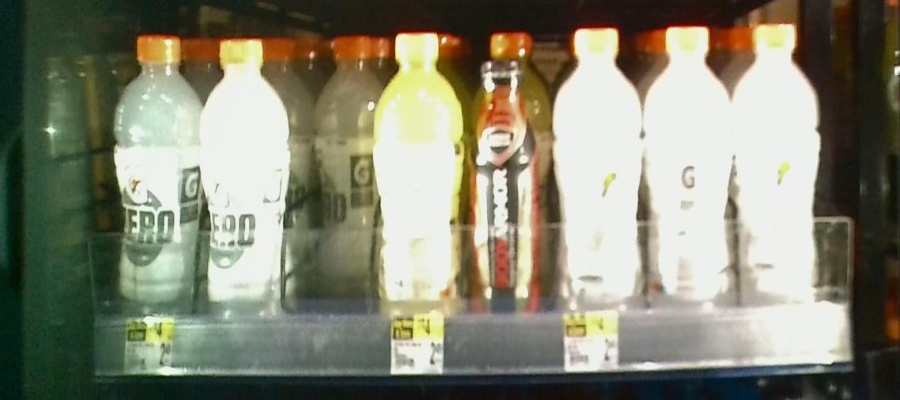bottle: (203, 36, 292, 316), (552, 25, 641, 305), (643, 23, 731, 302), (733, 19, 820, 301), (379, 29, 463, 311), (114, 34, 199, 312), (475, 60, 539, 312), (317, 32, 373, 303)
